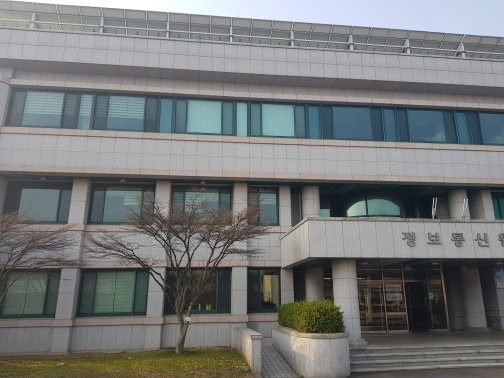Information Telecommunication Center: (2, 10, 503, 345), (276, 217, 504, 362), (356, 269, 494, 337), (388, 220, 494, 257)
